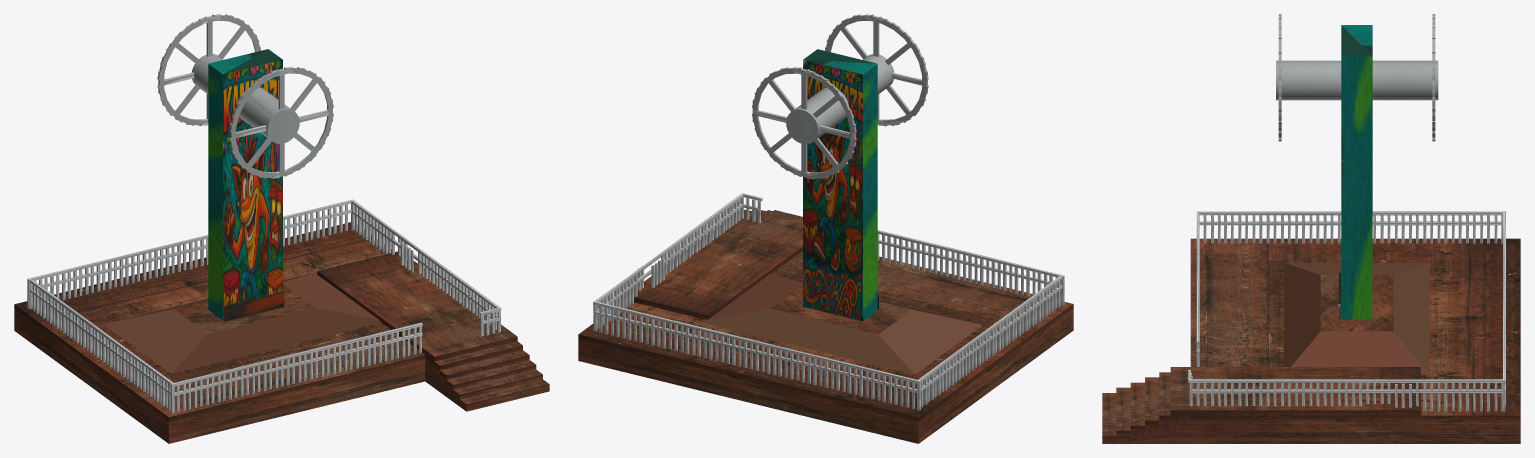
The model's file is martillo_base.obj.
3 renders of one model, left to right at view 1: azimuth 30°, elevation 25°; view 2: azimuth 150°, elevation 25°; view 3: azimuth 270°, elevation 25°, orthographic. The views are drawn at different scales.
Visible parts, largest first — view 1: box.942; view 2: box.942; view 3: box.942.
Boxes of the visible parts, x1=… form: box.942: x1=14, y1=14, x2=549, y2=443; box.942: x1=578, y1=14, x2=1073, y2=443; box.942: x1=1102, y1=14, x2=1520, y2=443.
Bounding box in the file's own units: 18.12 × 15.66 × 18.12.
Materials: 4 (4 with a texture image).
